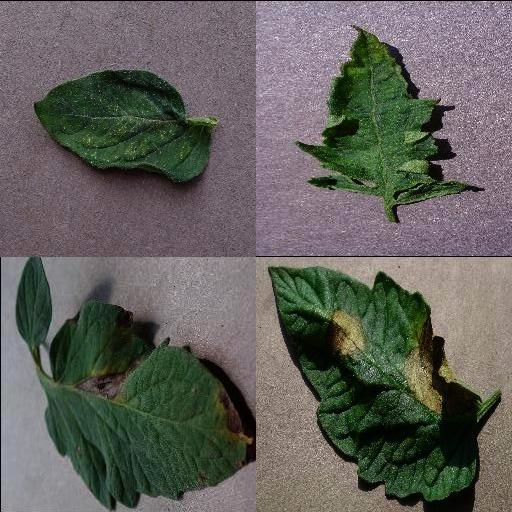Early Blight: (45, 299, 254, 512)
Healthy: (14, 256, 53, 346)
Late Blight: (266, 265, 482, 503)
Mosaic Virus: (297, 23, 467, 207)
Spider Mites: (31, 67, 213, 183)
